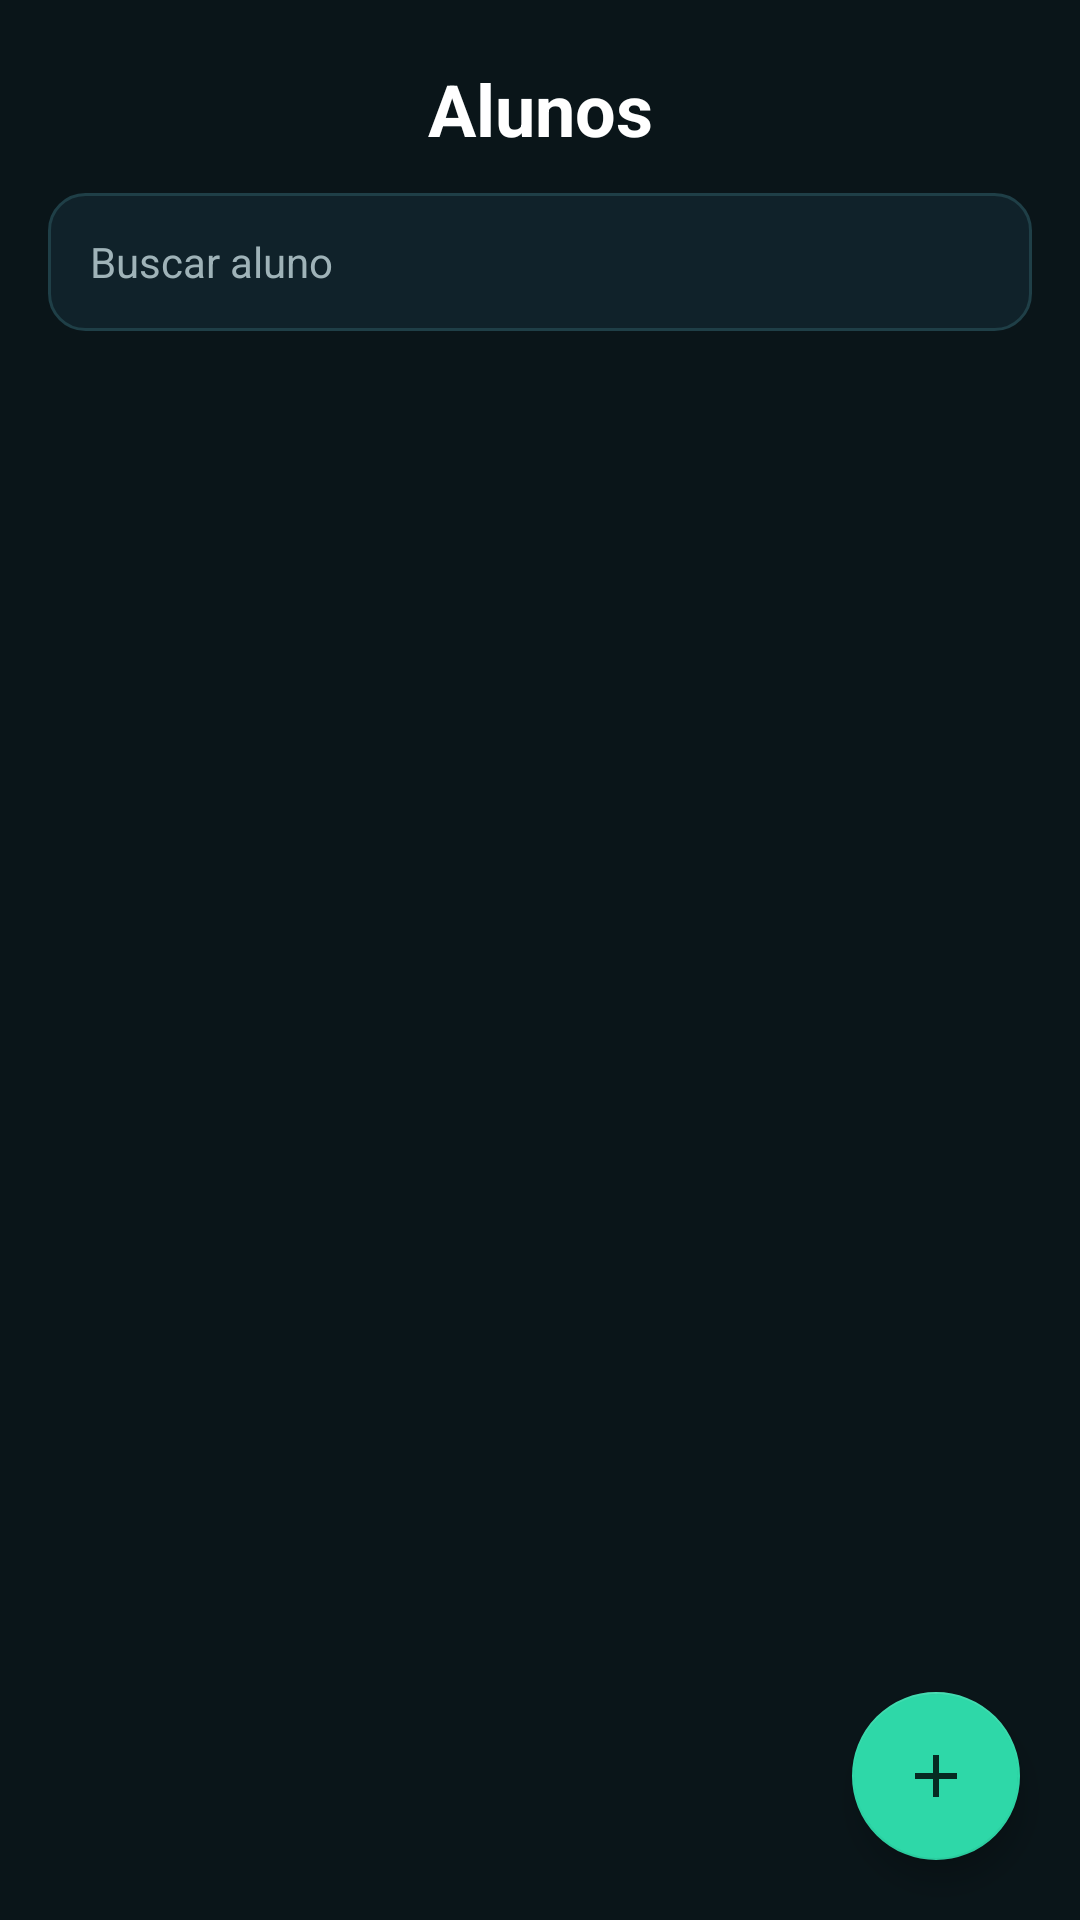

Screen size 1080px×1920px. Icon name, then its box in pixels as BBox(x1, y1, x2, y2):
Novo aluno: BBox(852, 1692, 1020, 1860)
